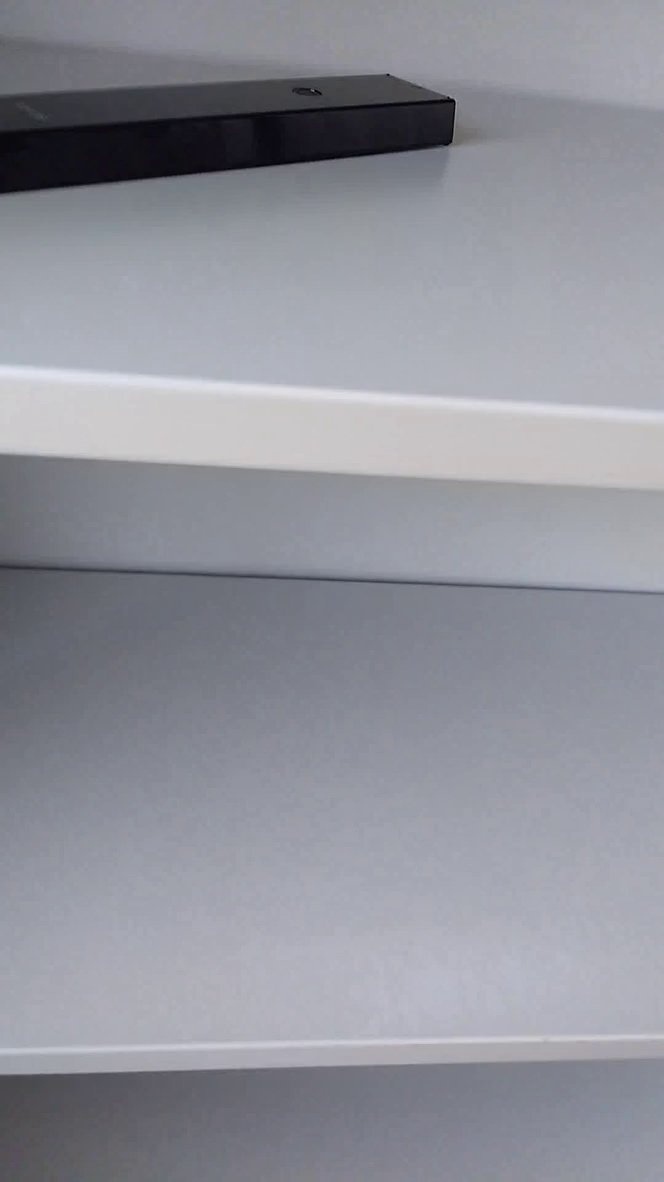remote: (1, 47, 471, 222)
